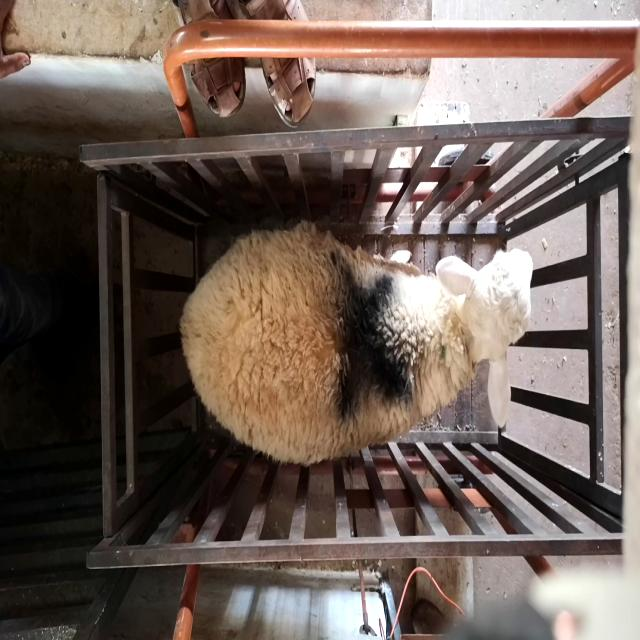sheep: (179, 219, 533, 469)
